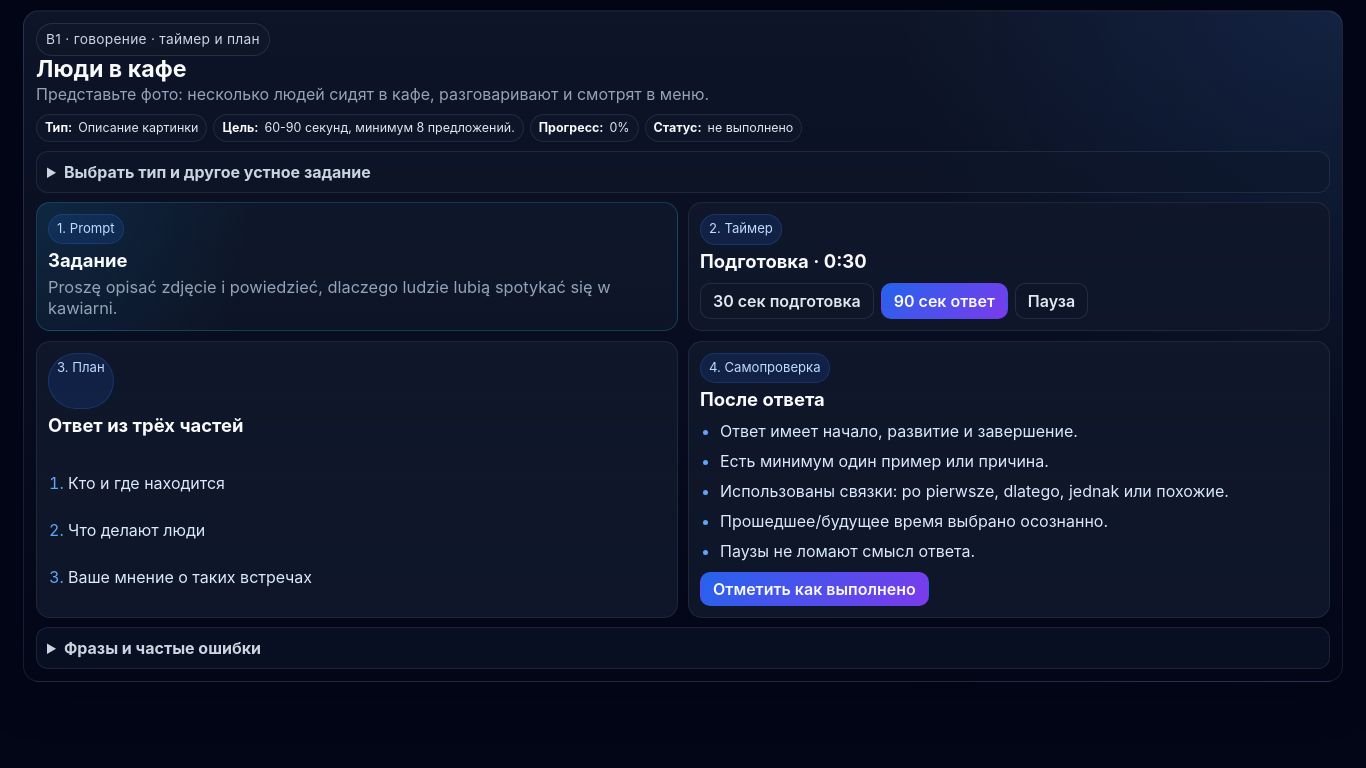
Test: SpeakingPracticeScreen › keeps prompt, timer, plan and self-check controls visible in one compact flow
Check: the heading "Задание" is shown, box [48,249,127,271]
Check: the heading "Подготовка · 0:30" is shown, box [700,250,867,272]
Click the button "90 сек ответ" at [944, 301], box [881,283,1008,319]
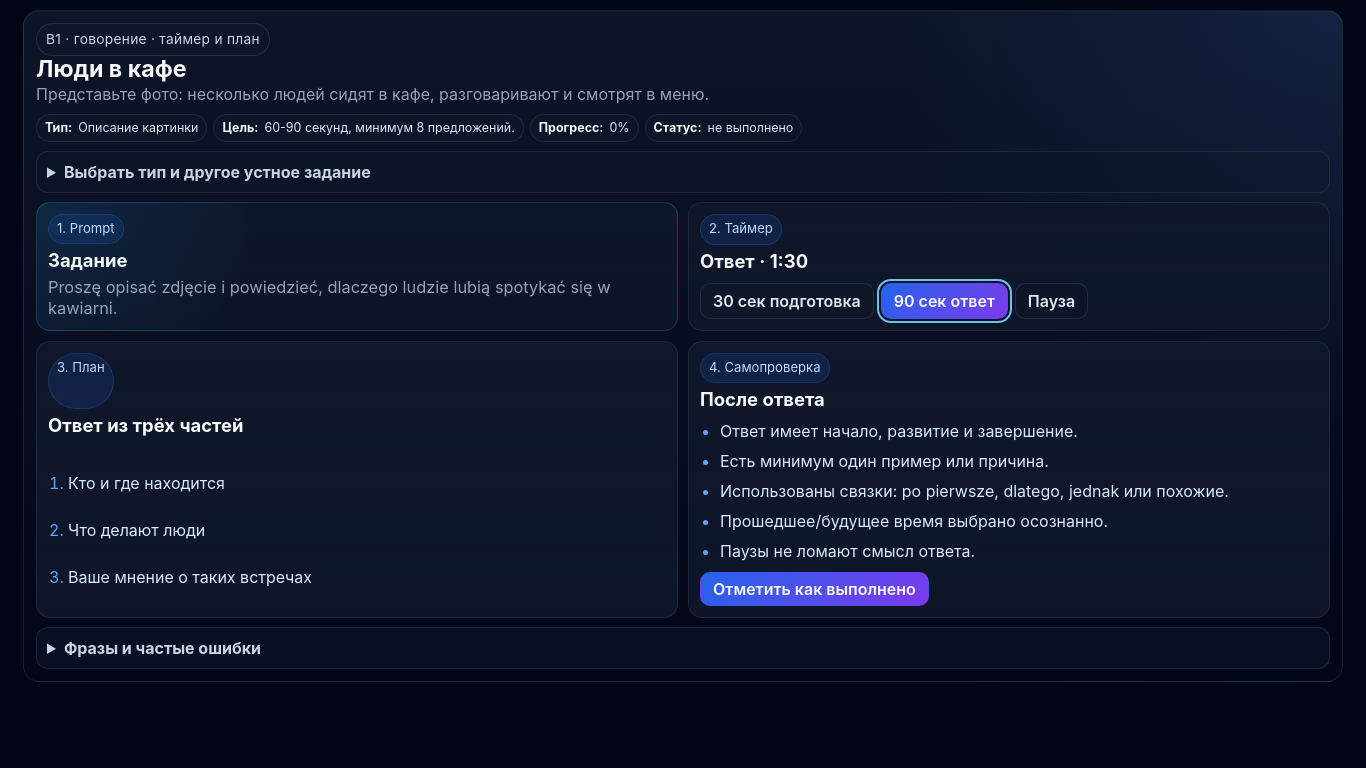
Check: the heading "Ответ · 1:30" is shown, box [700,250,808,272]
